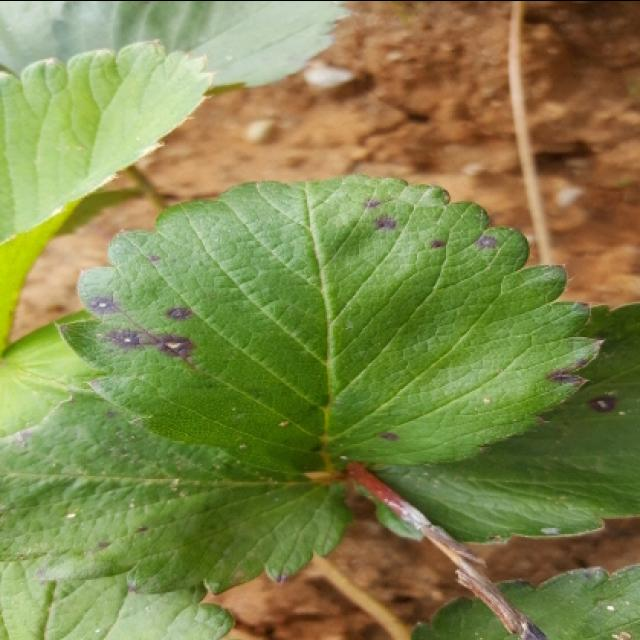Leaf Spot: (53, 174, 603, 472), (0, 389, 352, 598), (352, 299, 638, 546)
